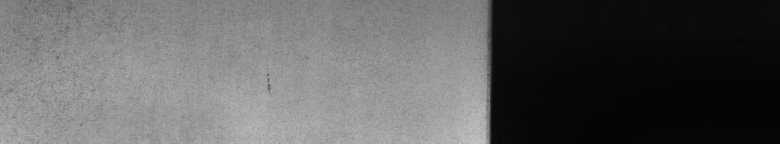ib: (9, 6, 75, 108)
